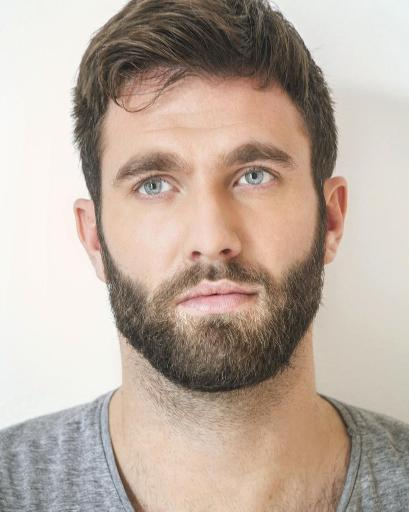left_eye: (232, 166, 284, 193)
left_lip_corner: (243, 283, 265, 307)
right_eye: (131, 175, 183, 202)
right_lip_corner: (172, 295, 189, 316)
